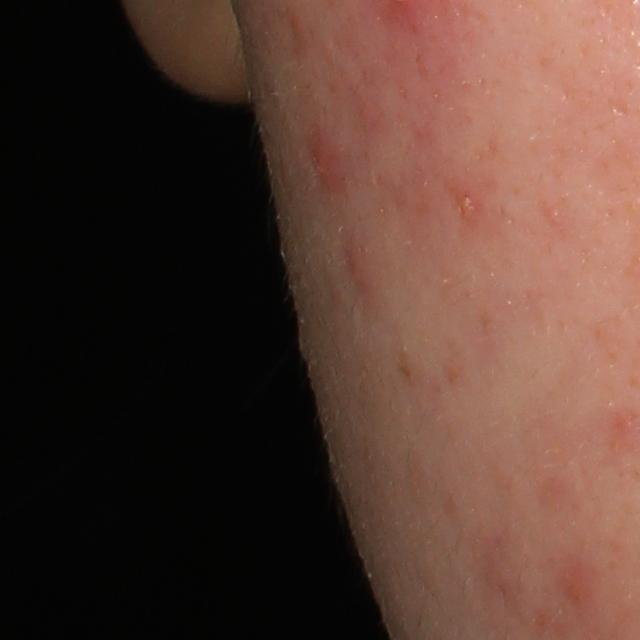papule: (314, 130, 341, 198), (348, 245, 371, 299)
